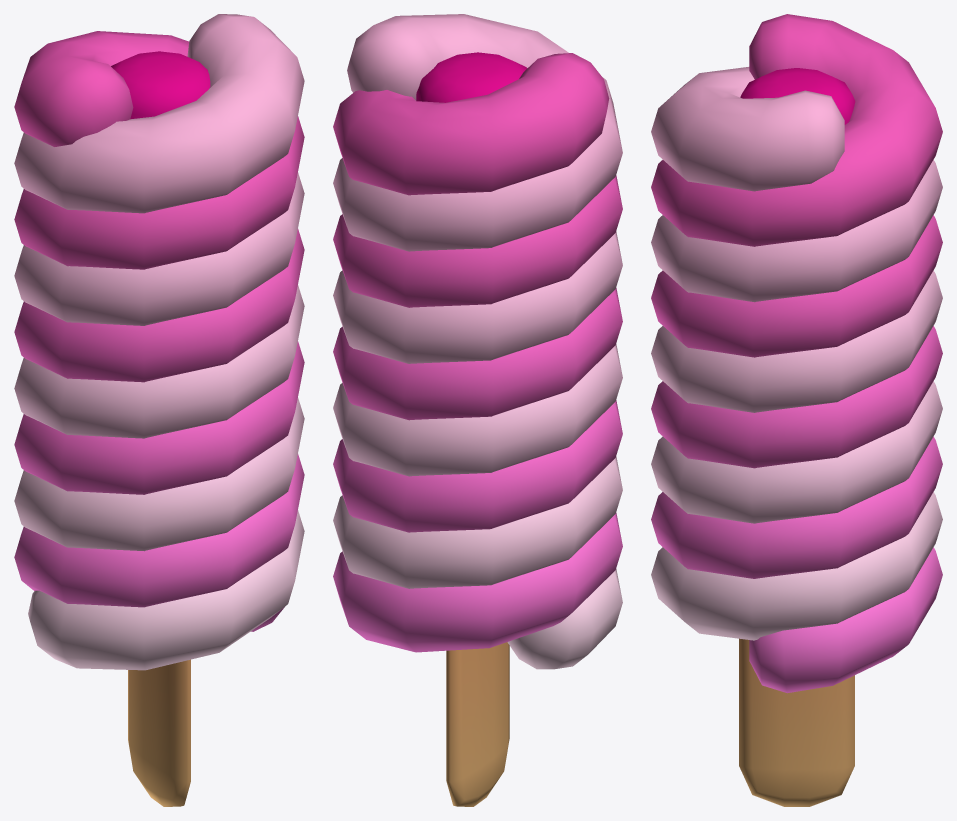
The model's file is Ice_Cream_V1_00.fbx.
3 renders of one model, left to right at view 1: azimuth 30°, elevation 25°; view 2: azimuth 150°, elevation 25°; view 3: azimuth 270°, elevation 25°, orthographic.
Visible parts, largest first — view 1: Ice_Cream_V1_00; view 2: Ice_Cream_V1_00; view 3: Ice_Cream_V1_00.
Part boxes in pixels (x1,y1,x2,y2): Ice_Cream_V1_00: [14, 14, 304, 806]; Ice_Cream_V1_00: [333, 14, 622, 806]; Ice_Cream_V1_00: [651, 14, 942, 806].
Size of the model in its own units: 20.02 by 59.42 by 20.97.
